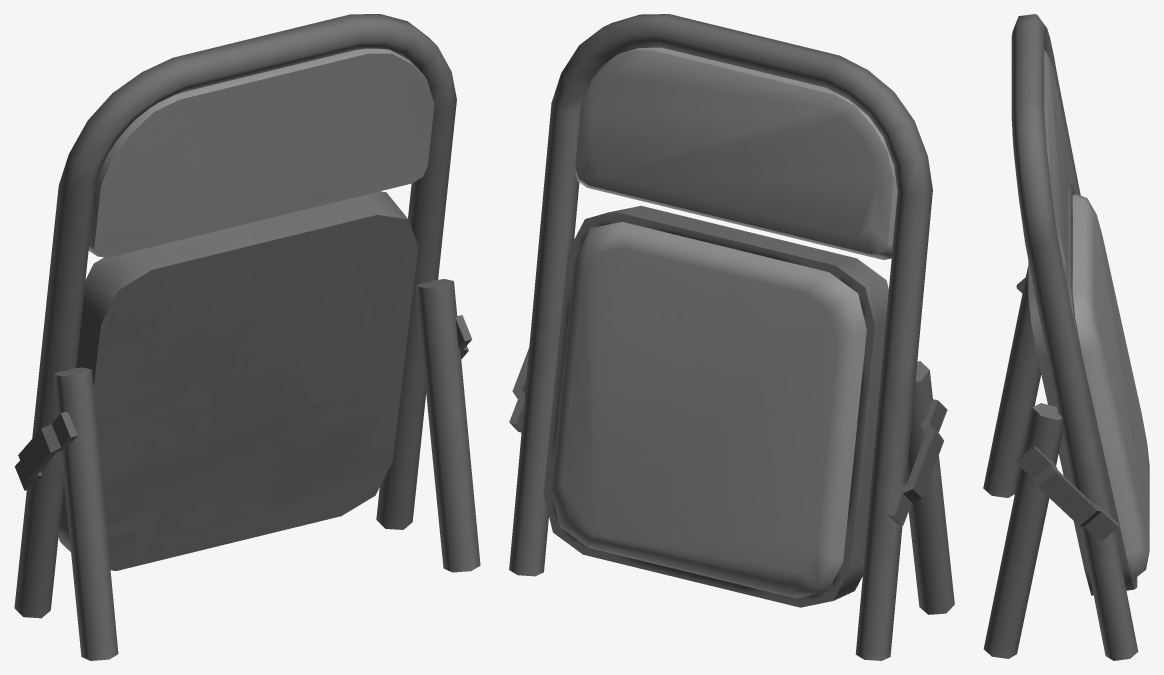
File: Pfb_Chair__9.fbx
3 renders of one model, left to right at view 1: azimuth 30°, elevation 25°; view 2: azimuth 150°, elevation 25°; view 3: azimuth 270°, elevation 25°, orthographic. The views are drawn at different scales.
Parts seen in each view (by area): view 1: Mat_Chair_02_White; view 2: Mat_Chair_02_White; view 3: Mat_Chair_02_White.
Part boxes in pixels (x1,y1,x2,y2): Mat_Chair_02_White: (14, 14, 480, 660); Mat_Chair_02_White: (509, 14, 954, 660); Mat_Chair_02_White: (983, 14, 1149, 660).
Bounding box in the file's own units: 0.9052 × 1.17 × 0.3434.
1 material, 1 textured.
